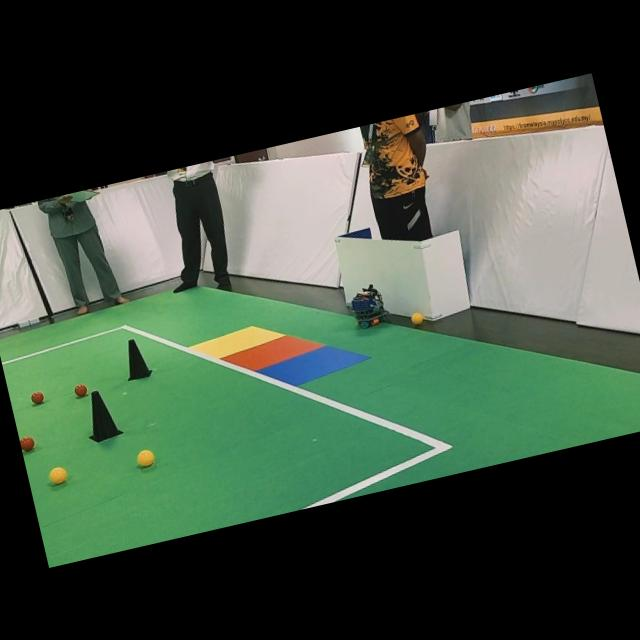ball: (49, 466, 67, 484), (137, 449, 155, 465), (19, 435, 34, 451), (30, 390, 44, 404), (410, 311, 424, 325), (74, 383, 88, 396)
goal: (258, 345, 370, 385), (222, 335, 323, 370), (189, 325, 285, 358)
